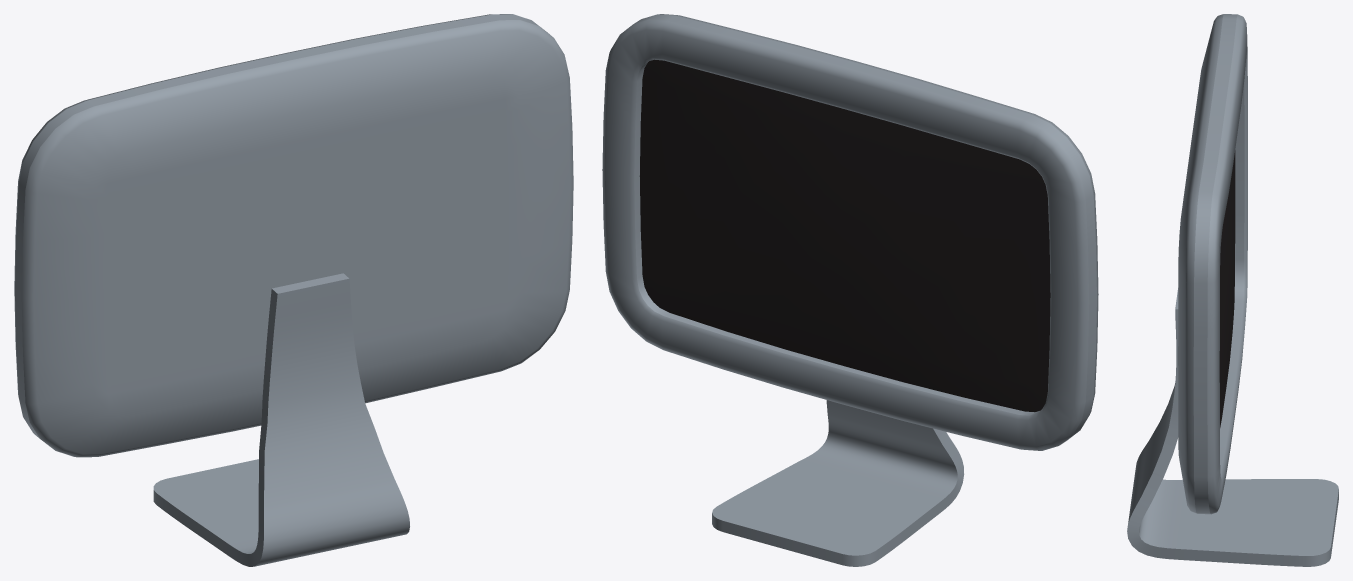
The model's file is Computer.fbx.
3 renders of one model, left to right at view 1: azimuth 30°, elevation 25°; view 2: azimuth 150°, elevation 25°; view 3: azimuth 270°, elevation 25°, orthographic. The views are drawn at different scales.
Parts seen in each view (by area): view 1: Computer; view 2: Computer; view 3: Computer.
Part boxes in pixels (left/top/right/bottom): Computer: left=14, top=14, right=573, bottom=566; Computer: left=602, top=14, right=1098, bottom=566; Computer: left=1127, top=14, right=1338, bottom=566.
Size of the model in its own units: 0.4708 by 0.3948 by 0.1788.
